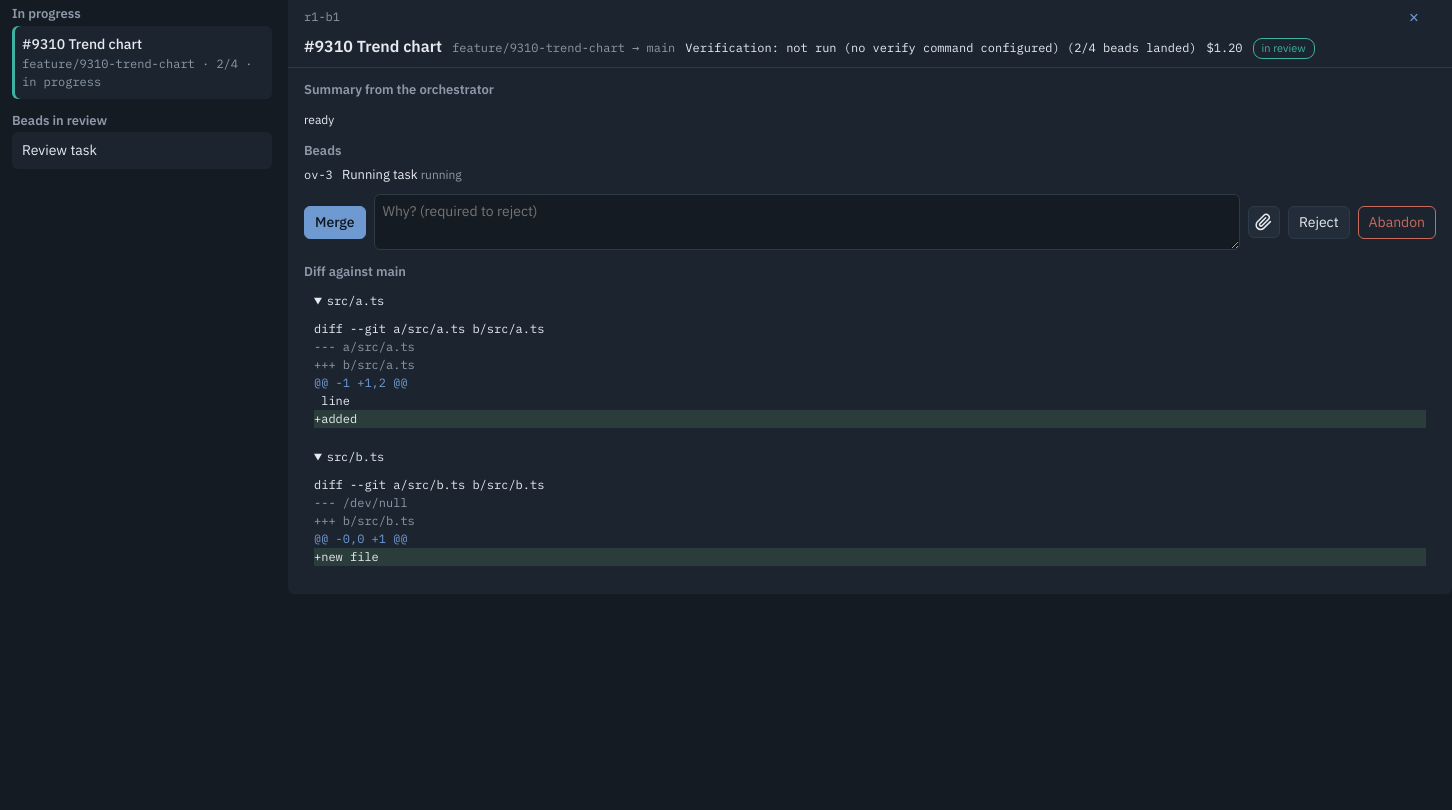
Review › closes the batch pane after Merge even when a board refresh refetches the old batch
Click the button "Merge" at (335, 222), box [304,206,366,238]
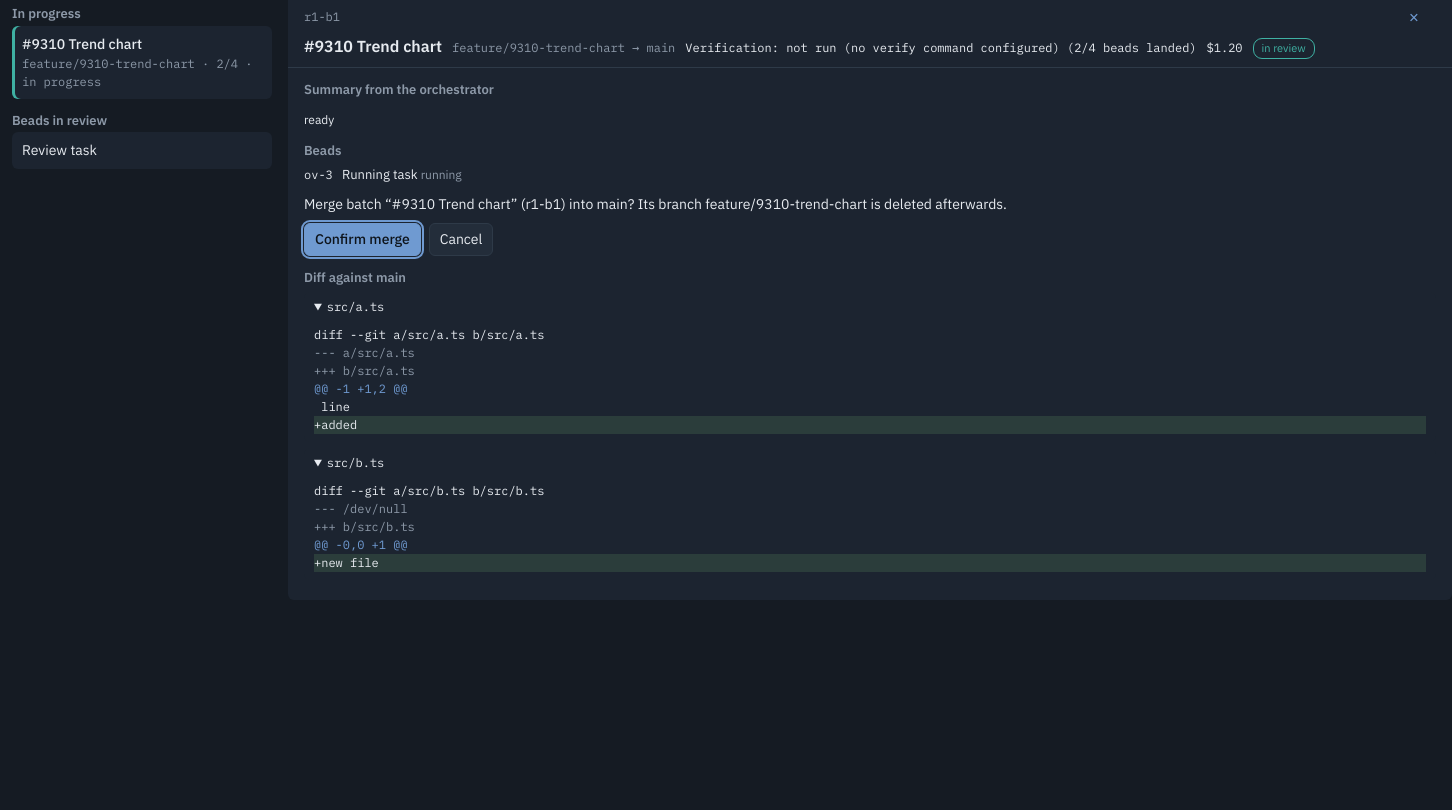
Click the button "Confirm merge" at (362, 240), box [304,223,421,256]
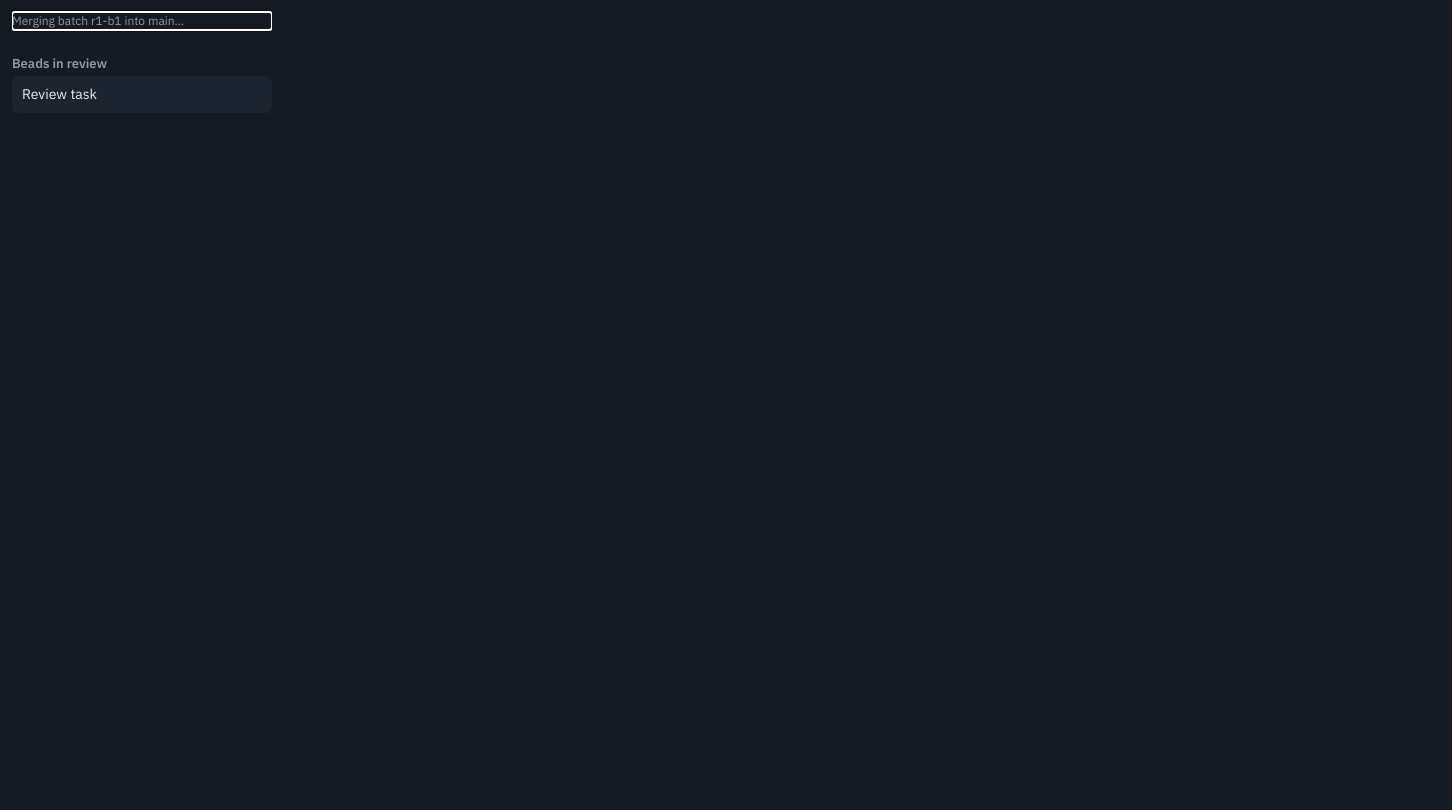
Expected: the button "Abandon" is not shown
Expected: the text "Merge" is gone
Expected: the heading "In progress" is gone
